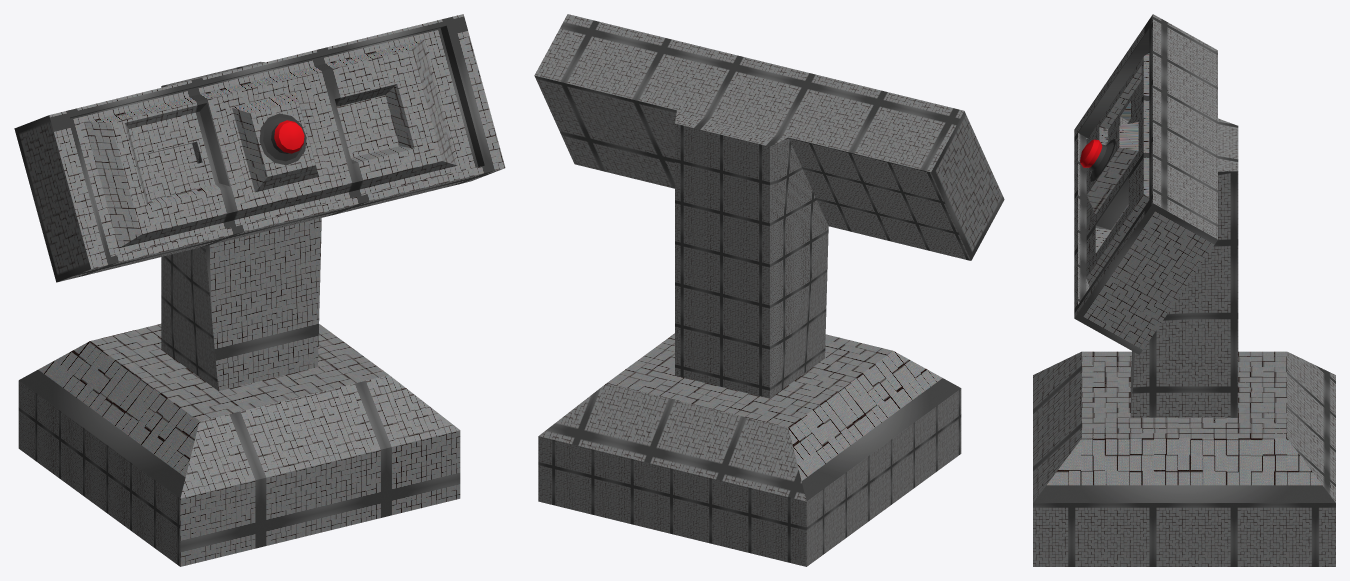
The model's file is panel2.fbx.
3 renders of one model, left to right at view 1: azimuth 30°, elevation 25°; view 2: azimuth 150°, elevation 25°; view 3: azimuth 270°, elevation 25°, orthographic. The views are drawn at different scales.
Visible parts, largest first — view 1: Cube; view 2: Cube; view 3: Cube.
Boxes of the visible parts, box(x1,y1,x2,y2) form: Cube: box(14, 14, 505, 566); Cube: box(534, 14, 1004, 566); Cube: box(1033, 14, 1335, 566).
Size of the model in its own units: 2.96 by 2.88 by 2.
